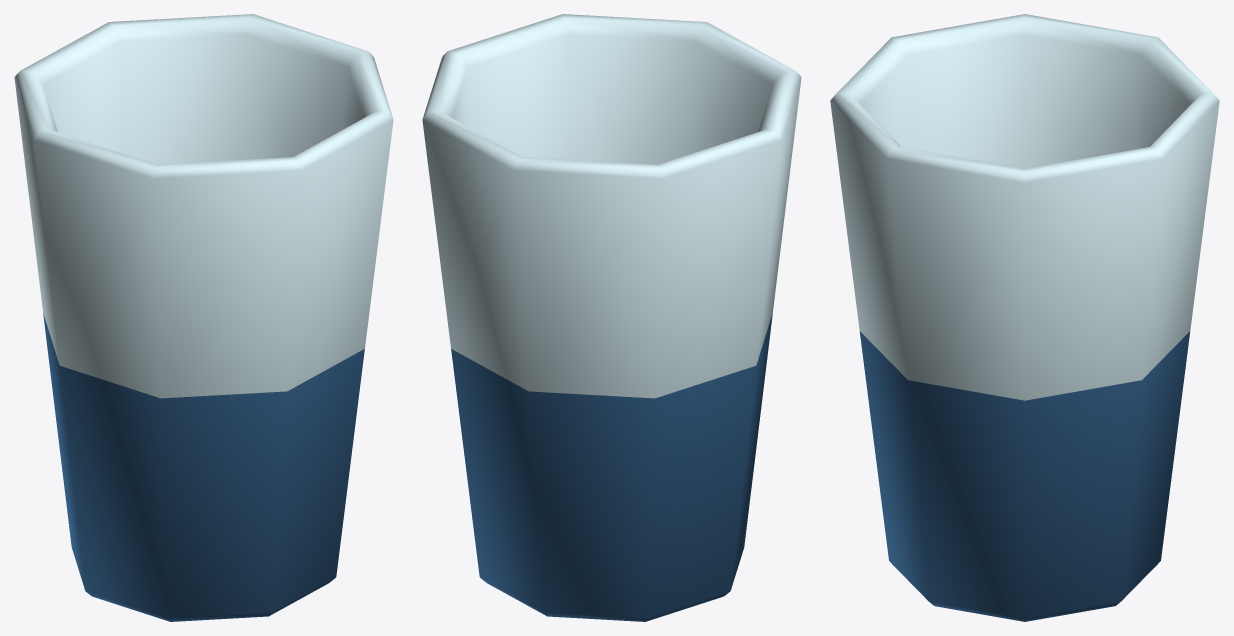
File: cup1.FBX
3 renders of one model, left to right at view 1: azimuth 30°, elevation 25°; view 2: azimuth 150°, elevation 25°; view 3: azimuth 270°, elevation 25°, orthographic.
Visible parts, largest first — view 1: cup1; view 2: cup1; view 3: cup1.
Boxes of the visible parts, x1,y1,x2,y2 form: cup1: (14,14,393,621); cup1: (422,14,801,621); cup1: (830,14,1219,621).
Bounding box in the file's own units: 13.61 × 18.27 × 13.61.
Materials: 1 (1 with a texture image).
